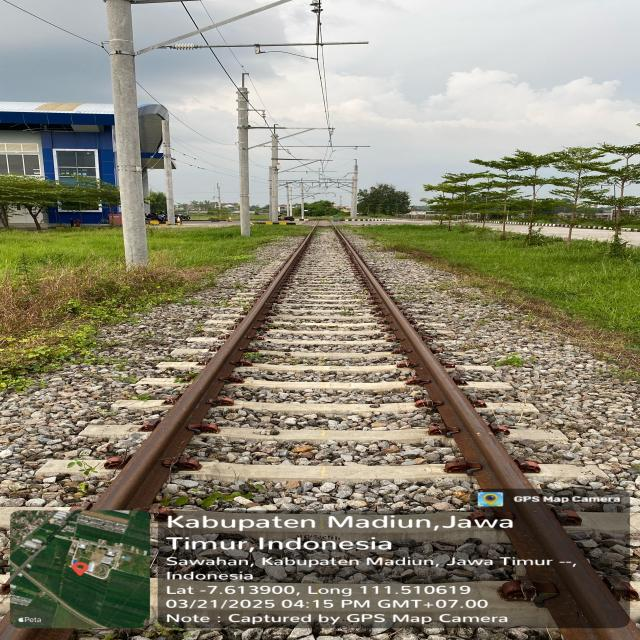rail-detection: (336, 230, 640, 640), (92, 235, 310, 510)
